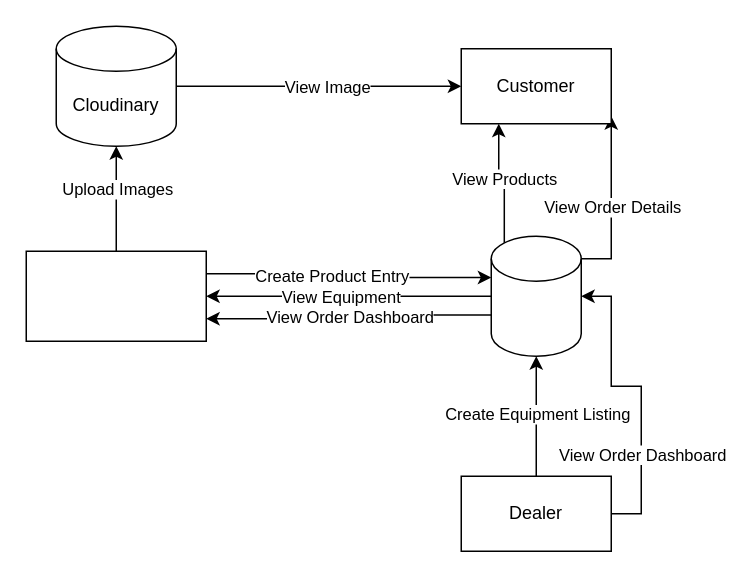
This 752x578 diagram has some shape labels left out. The centre of each missing label's shape, as x and y in pixels:
Farmer: the point at 115,295
MongoDB: the point at 535,295
